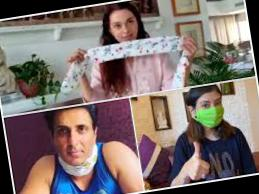mask_weared_incorrect: (52, 115, 100, 175), (112, 16, 141, 48)
with_mask: (196, 94, 227, 124)
